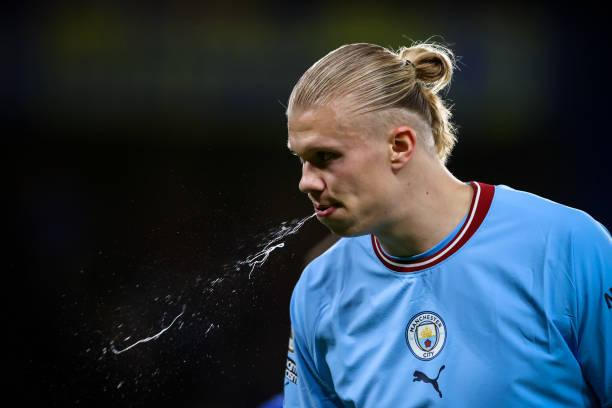Spitting: (202, 35, 473, 254)
